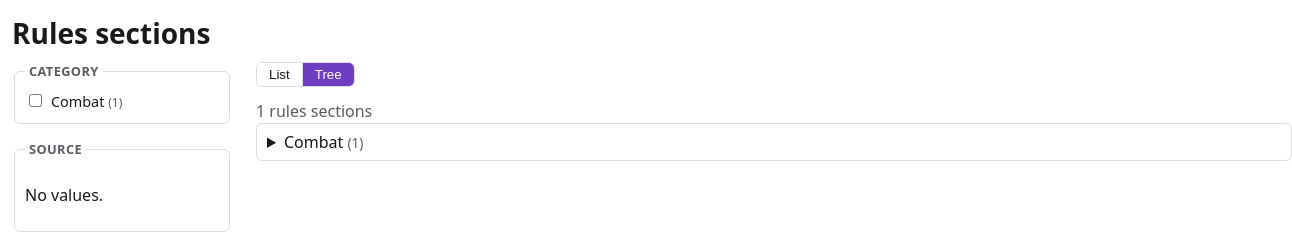
Test: BrowsePage tree view › clicking List/Tree updates the ?view= query param
Click the button "List". click: [279, 74]
box: [257,63,302,86]
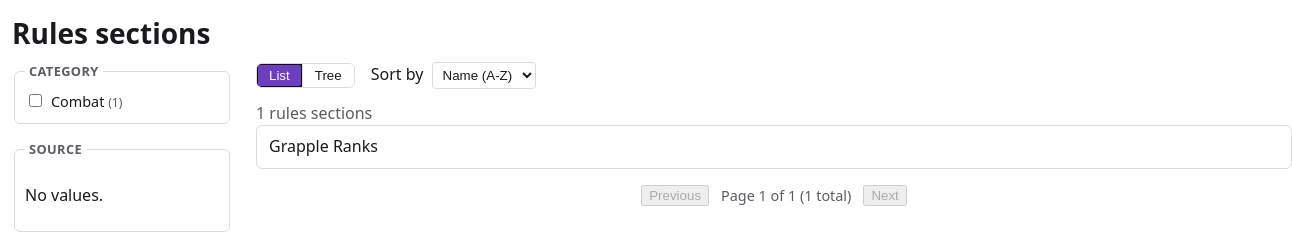
Result: the navigation bar named "Pagination" is shown at [641,185,907,206]
Click the button "Tree". click: [328, 76]
box: [302,64,354,87]
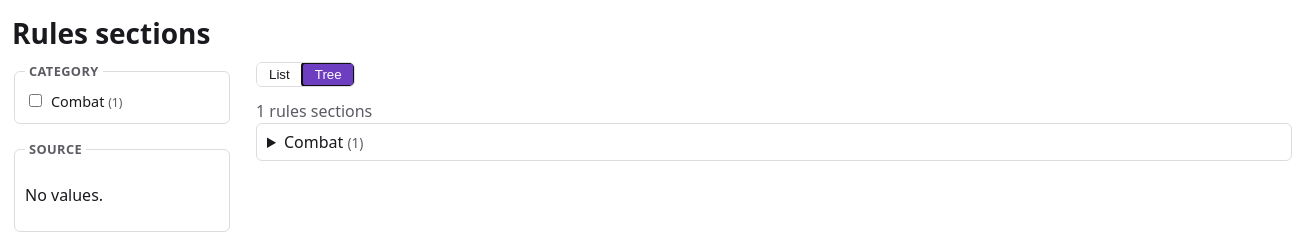
Result: the navigation bar "Pagination" is gone
